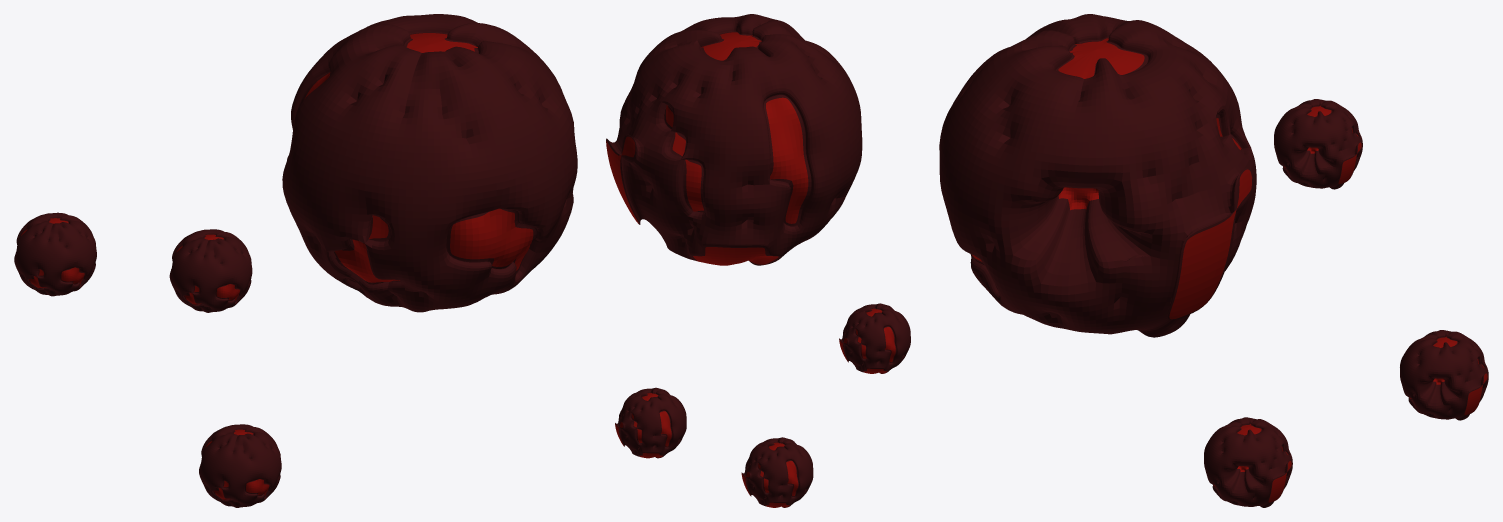
Rendered from meteoro.fbx.
The picture shows the model from 3 angles, left to right: view 1: azimuth 30°, elevation 25°; view 2: azimuth 150°, elevation 25°; view 3: azimuth 270°, elevation 25°; orthographic projection. The views are drawn at different scales.
Parts seen in each view (by area): view 1: Cylinder; view 2: Cylinder; view 3: Cylinder.
Boxes of the visible parts, x1,y1,x2,y2 form: Cylinder: (14,14,577,507); Cylinder: (606,14,910,507); Cylinder: (939,14,1488,507).
Size of the model in its own units: 87.54 by 95.42 by 90.75.
